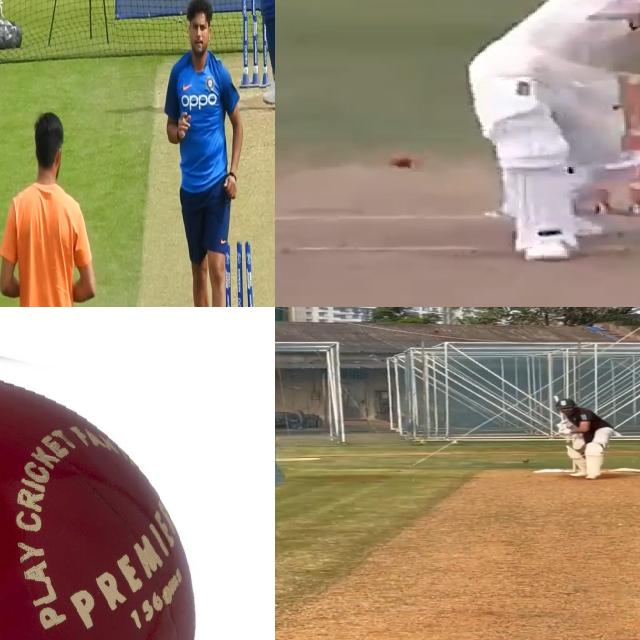Cricket ball: (0, 330, 208, 640), (382, 144, 424, 172), (523, 459, 529, 464)
Stumps: (221, 236, 258, 307), (240, 0, 266, 89)
